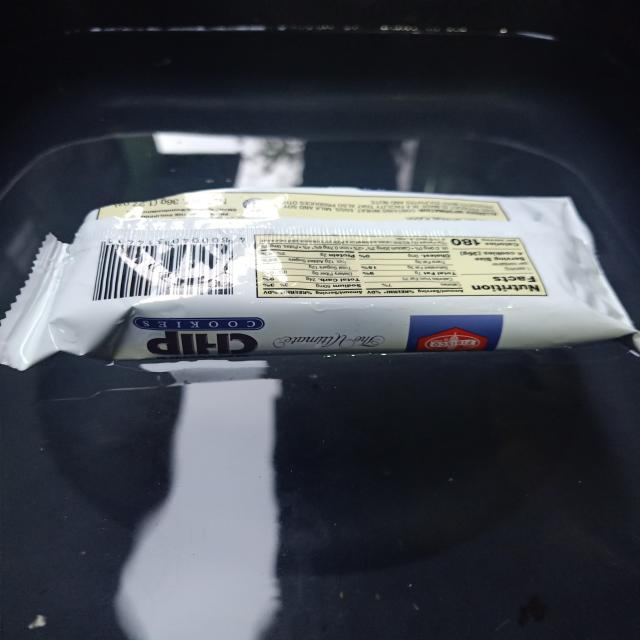Plastic Wrapper: (0, 188, 637, 369)
